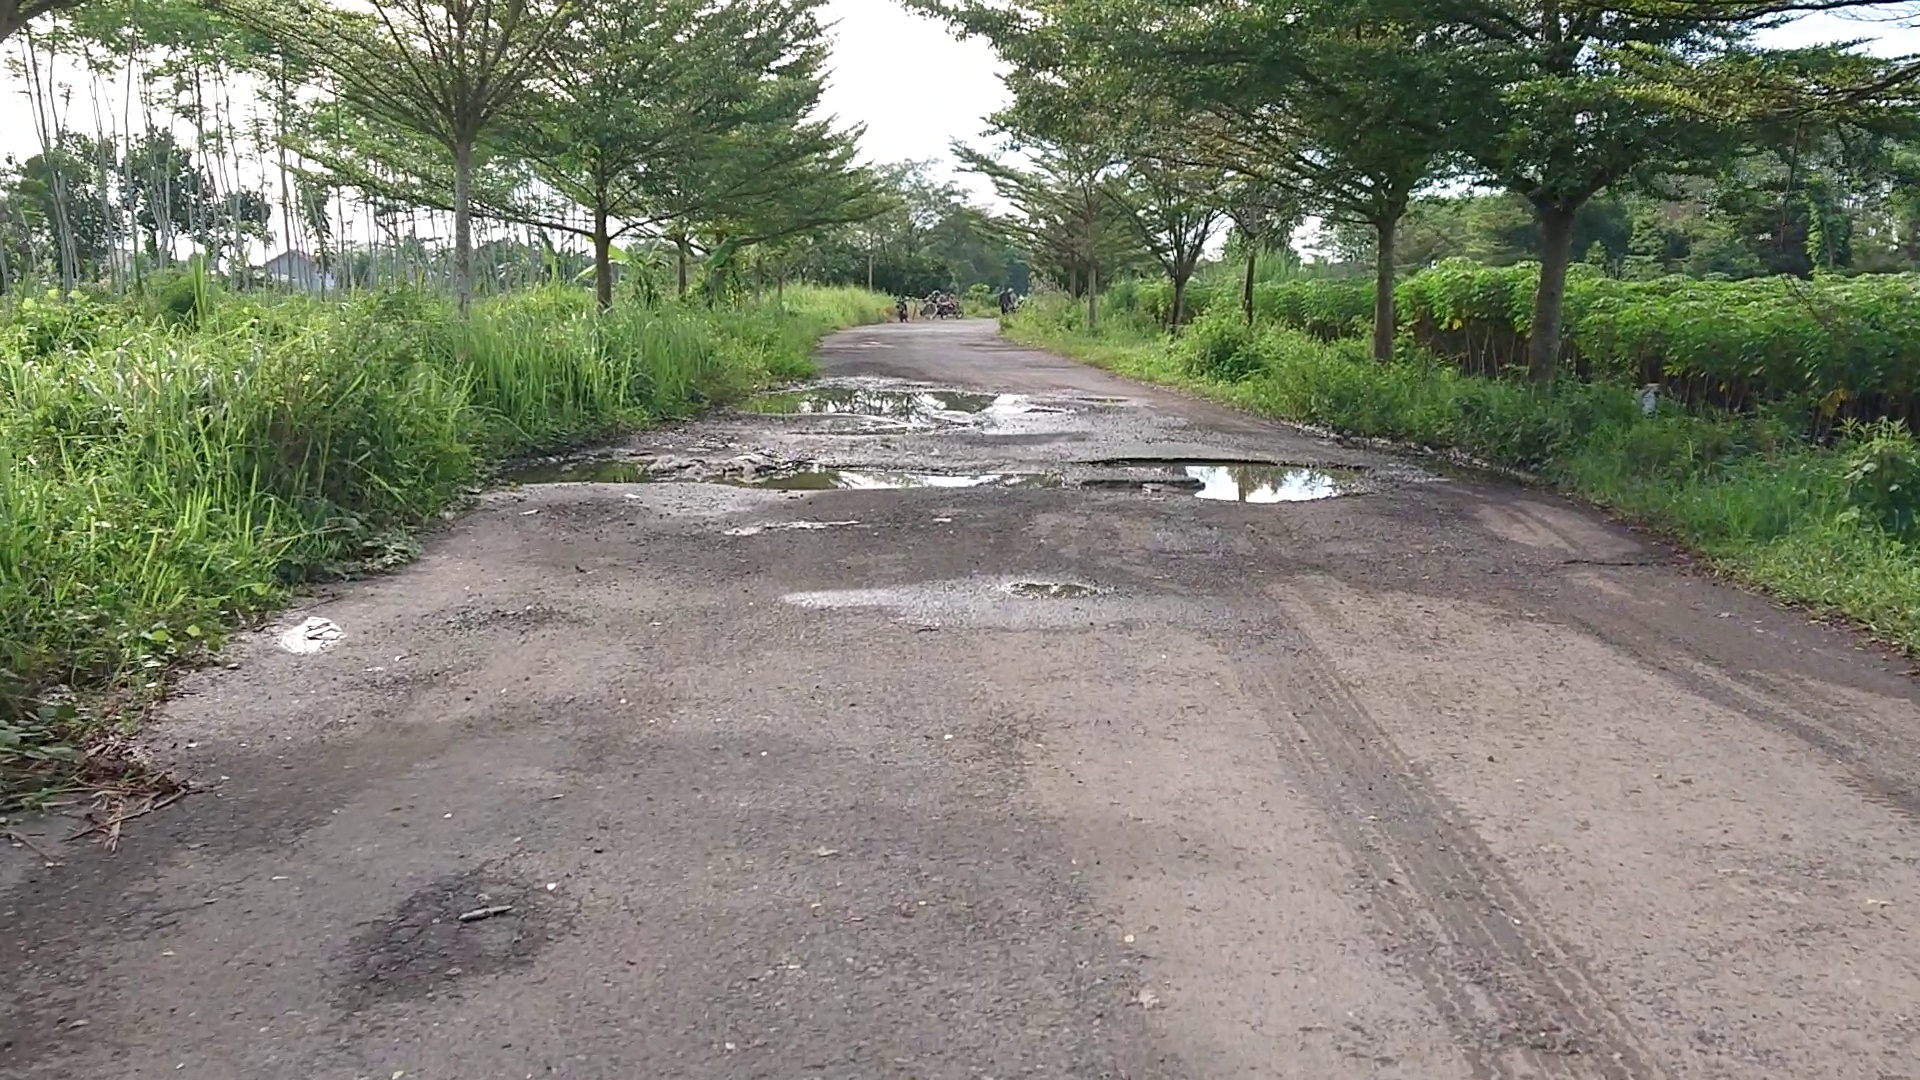Berlubang: (1095, 451, 1381, 509), (752, 378, 1118, 423), (764, 456, 1044, 492), (513, 455, 748, 495)
